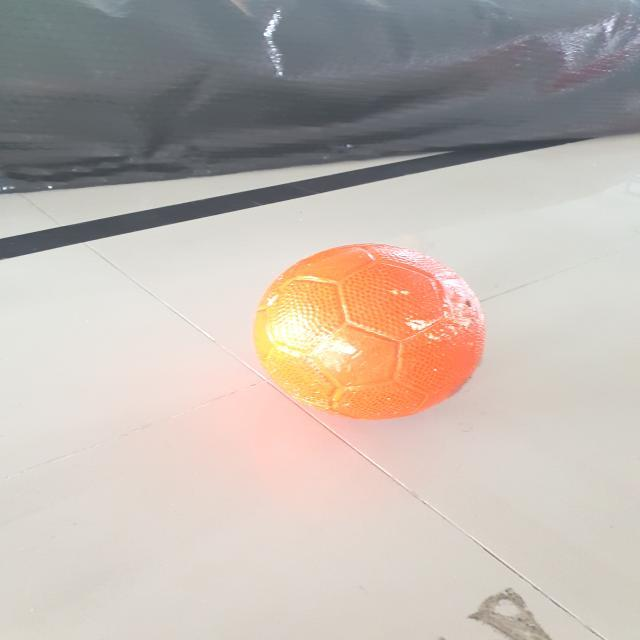bola: (238, 231, 498, 437)
